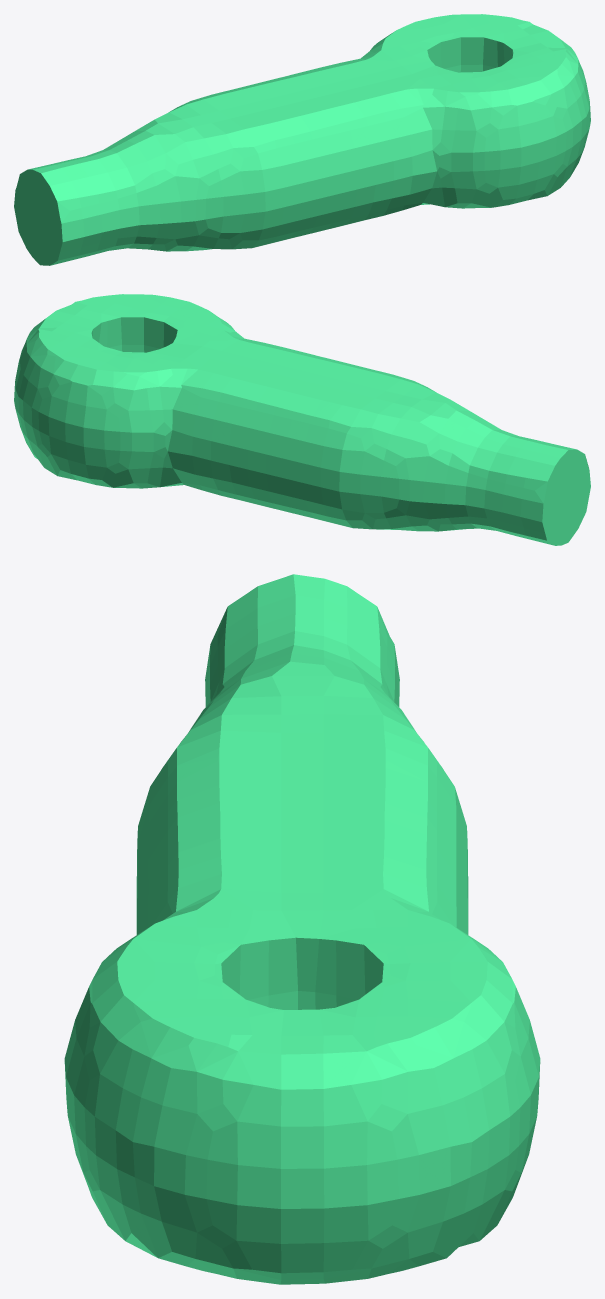
The model's file is rod.fbx.
3 views of the same model, one above another, from view 1: azimuth 30°, elevation 25°; view 2: azimuth 150°, elevation 25°; view 3: azimuth 270°, elevation 25° (orthographic). The views are drawn at different scales.
Visible parts, largest first — view 1: 0rod_修正; view 2: 0rod_修正; view 3: 0rod_修正.
Part boxes in pixels (x1,y1,x2,y2): 0rod_修正: (14, 14, 590, 265); 0rod_修正: (14, 294, 590, 545); 0rod_修正: (64, 574, 540, 1284).
Bounding box in the file's own units: 200 × 41.63 × 76.61.
